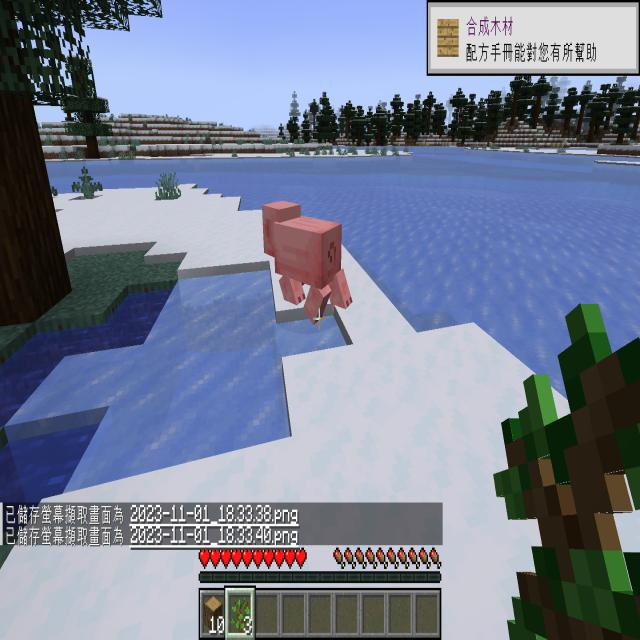pig: (250, 184, 359, 350)
